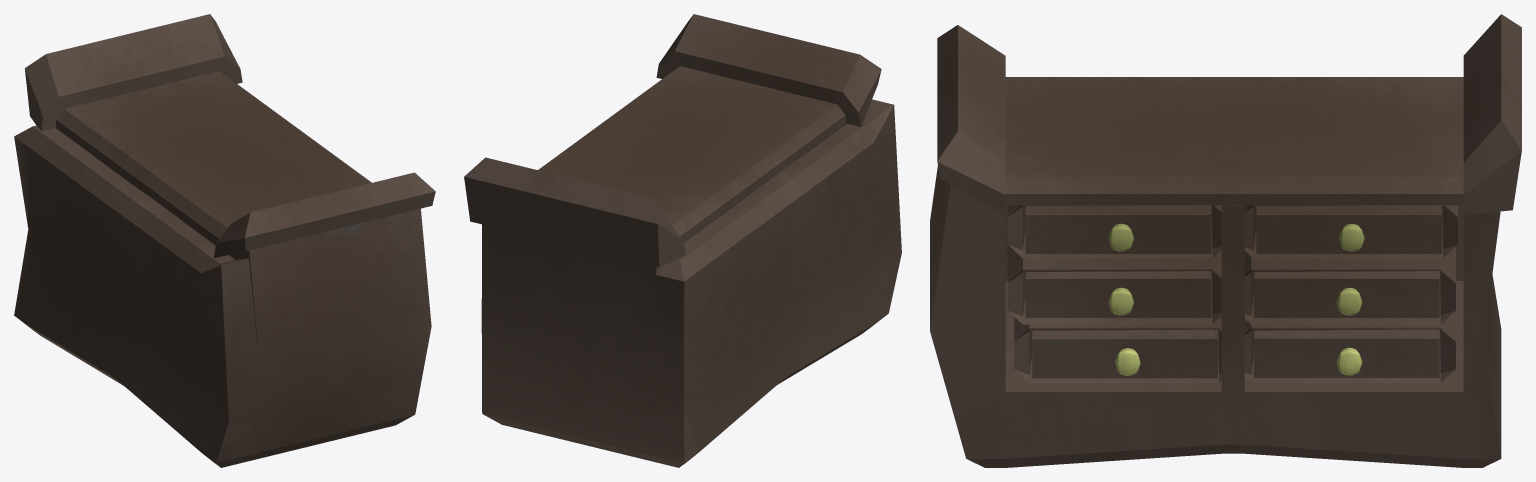
File: dresser.fbx
3 renders of one model, left to right at view 1: azimuth 30°, elevation 25°; view 2: azimuth 150°, elevation 25°; view 3: azimuth 270°, elevation 25°, orthographic. The views are drawn at different scales.
Visible parts, largest first — view 1: polySurface507; view 2: polySurface507; view 3: polySurface507.
Part boxes in pixels (x1=…): polySurface507: x1=14, y1=14, x2=435, y2=467; polySurface507: x1=464, y1=14, x2=901, y2=467; polySurface507: x1=930, y1=14, x2=1521, y2=467.
Bounding box in the file's own units: 0.9593 × 1.14 × 1.73.
Materials: 1 (1 with a texture image).
